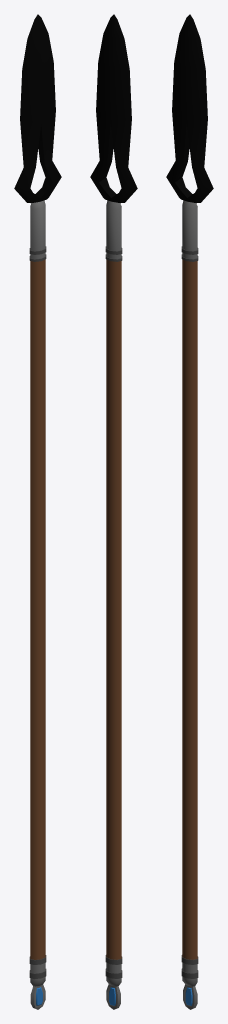
The model's file is Spear better.fbx.
3 renders of one model, left to right at view 1: azimuth 30°, elevation 25°; view 2: azimuth 150°, elevation 25°; view 3: azimuth 330°, elevation 25°, orthographic.
Visible parts, largest first — view 1: Cylinder.002; view 2: Cylinder.002; view 3: Cylinder.002.
Boxes of the visible parts, box(x1,y1,x2,y2) form: Cylinder.002: box(14, 14, 61, 1009); Cylinder.002: box(90, 14, 137, 1009); Cylinder.002: box(166, 14, 213, 1009).
Bounding box in the file's own units: 0.0797 × 1.59 × 0.0214.
